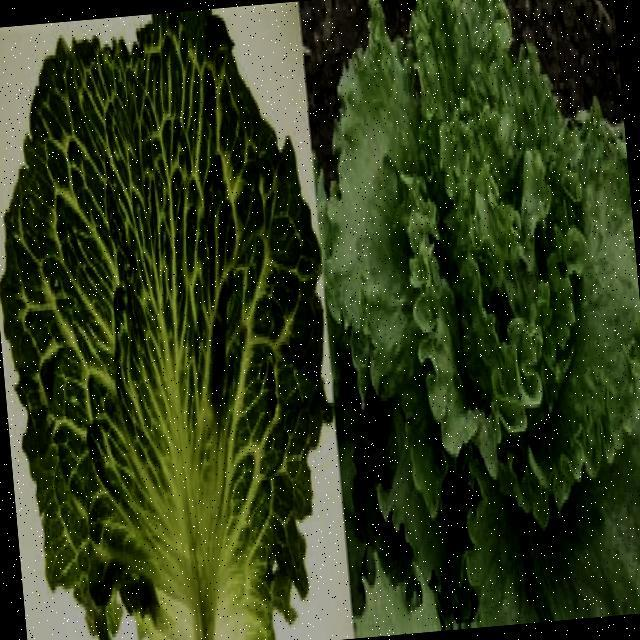Powdery_Mildew: (83, 285, 267, 640)
